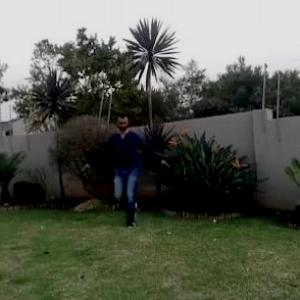land: (82, 105, 180, 230)
